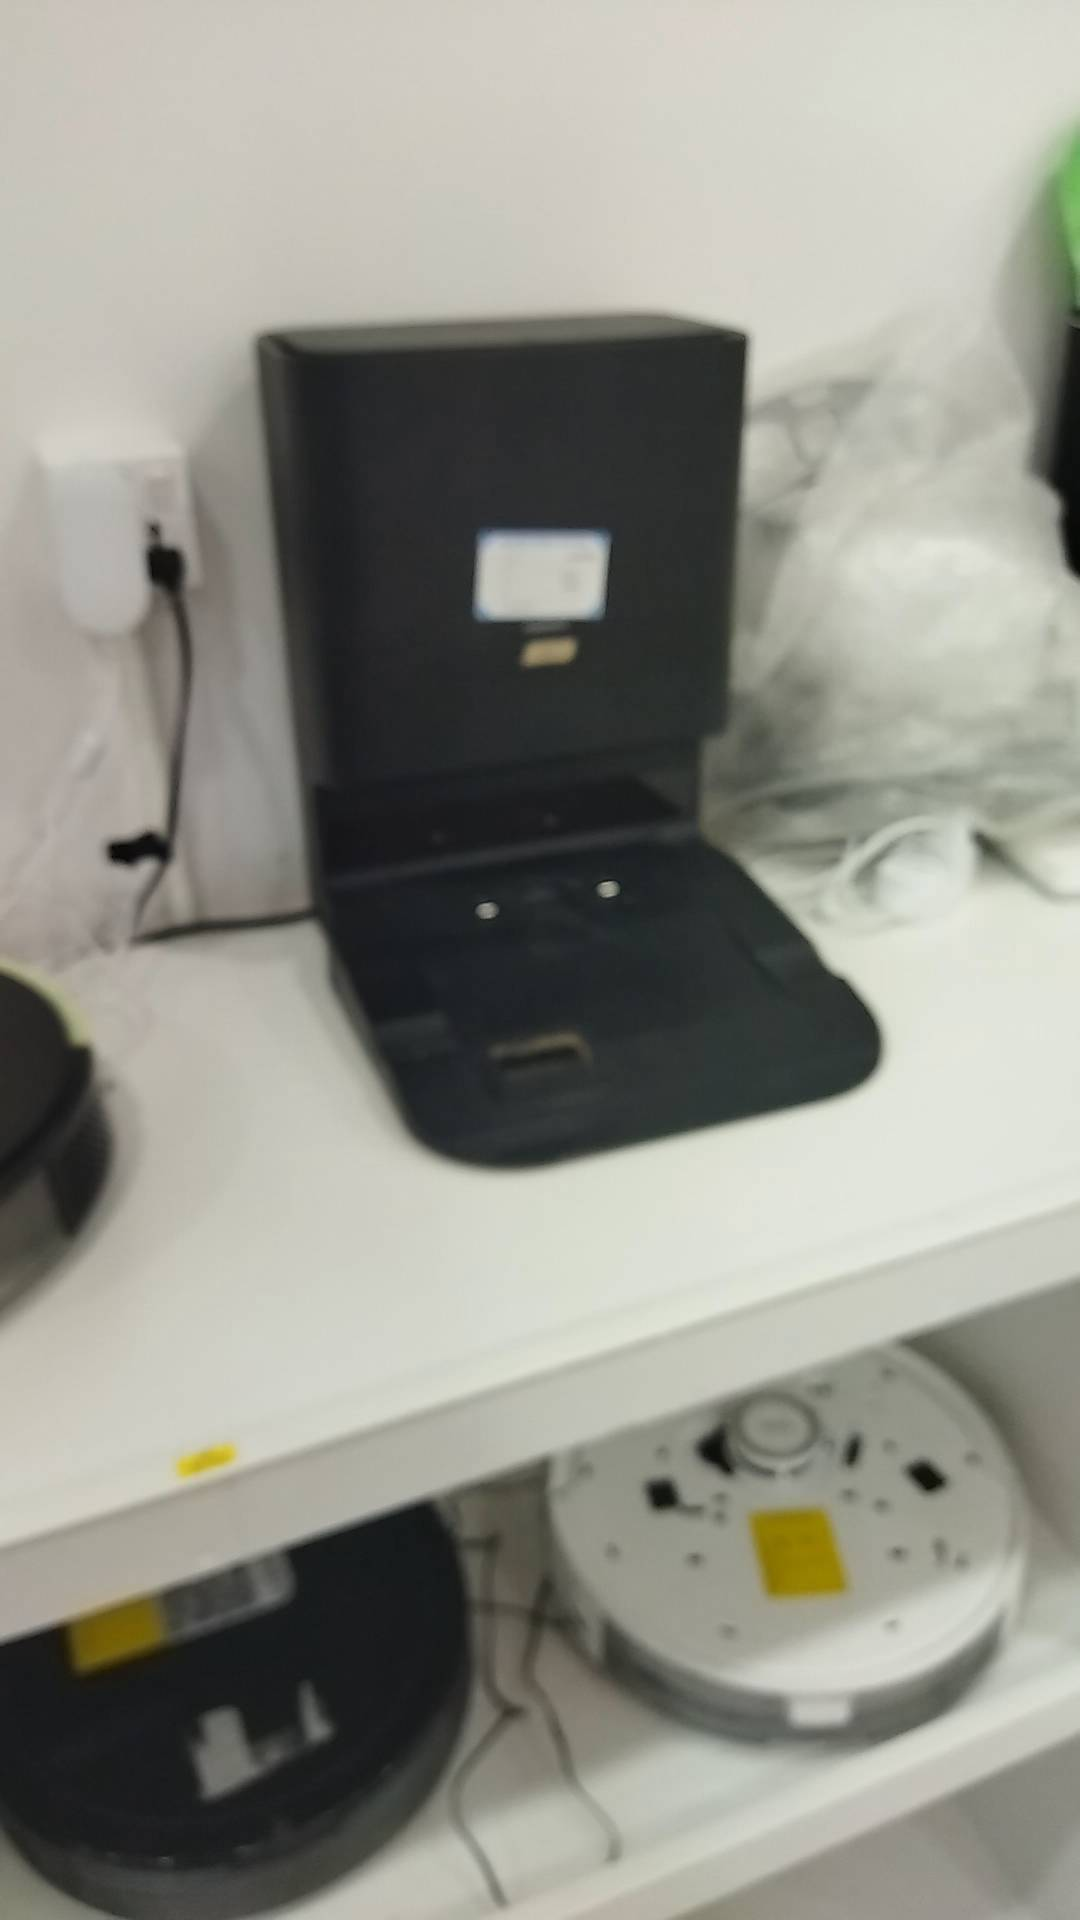dust collecting barrel: (249, 305, 884, 1172)
